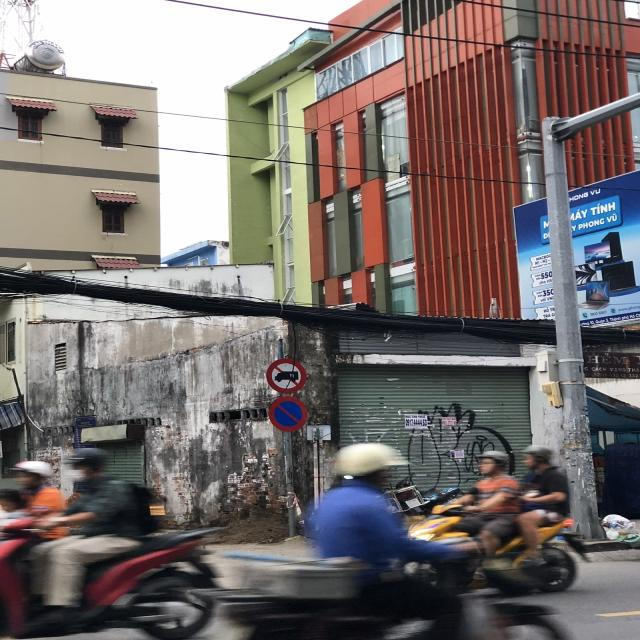Bien bao cam do xe: (264, 394, 312, 434)
Bien bao cam xe oto tai: (263, 356, 305, 396)
